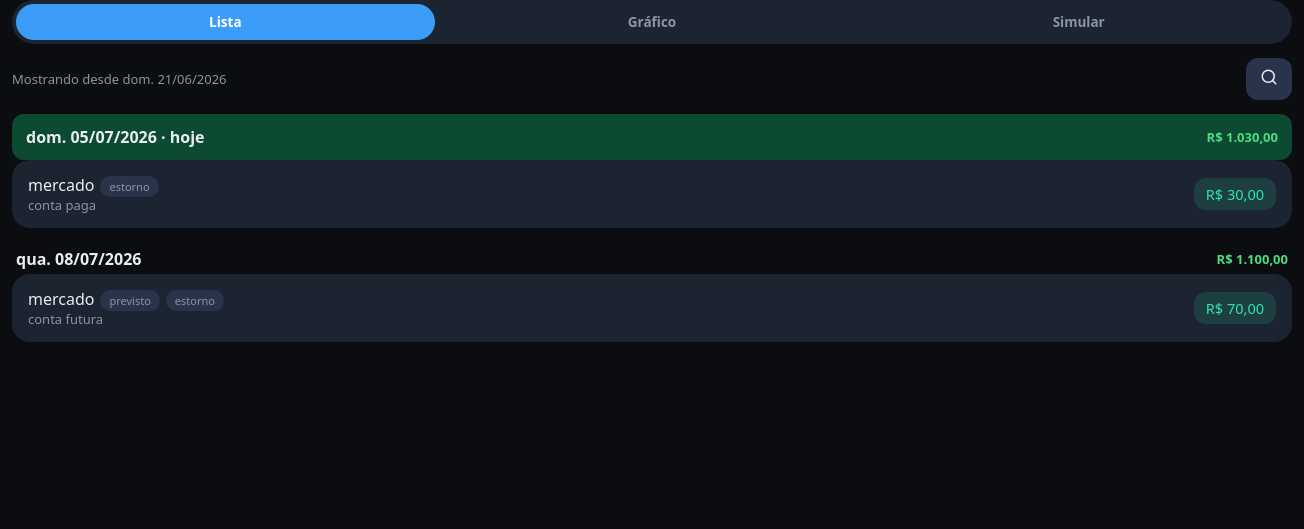
Test case: busca pelo selo "previsto" acha o lançamento previsto, e o +30 dias some enquanto se busca
This screenshot has width=1304, height=529.
Click the button named "Buscar e filtrar" at (1269, 79), box [1246,58,1292,100]
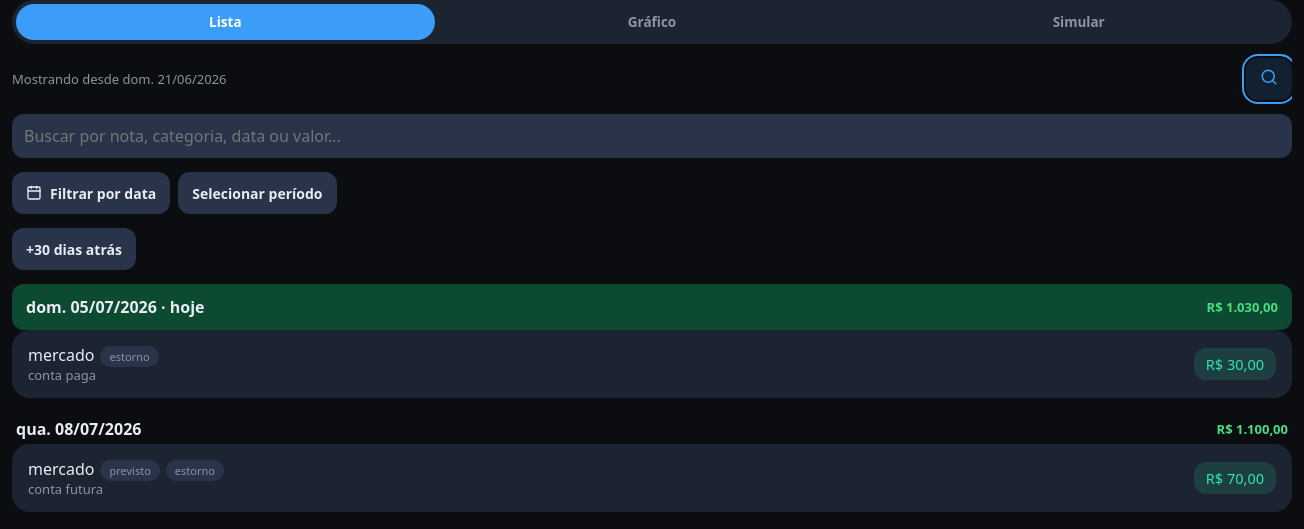
Result: the button "+30 dias atrás" is shown at [12,228,136,270]
Type "previsto" into the search field with placeholder "Buscar por nota, categoria, data ou valor..." at (652, 136), box [12,114,1292,158]
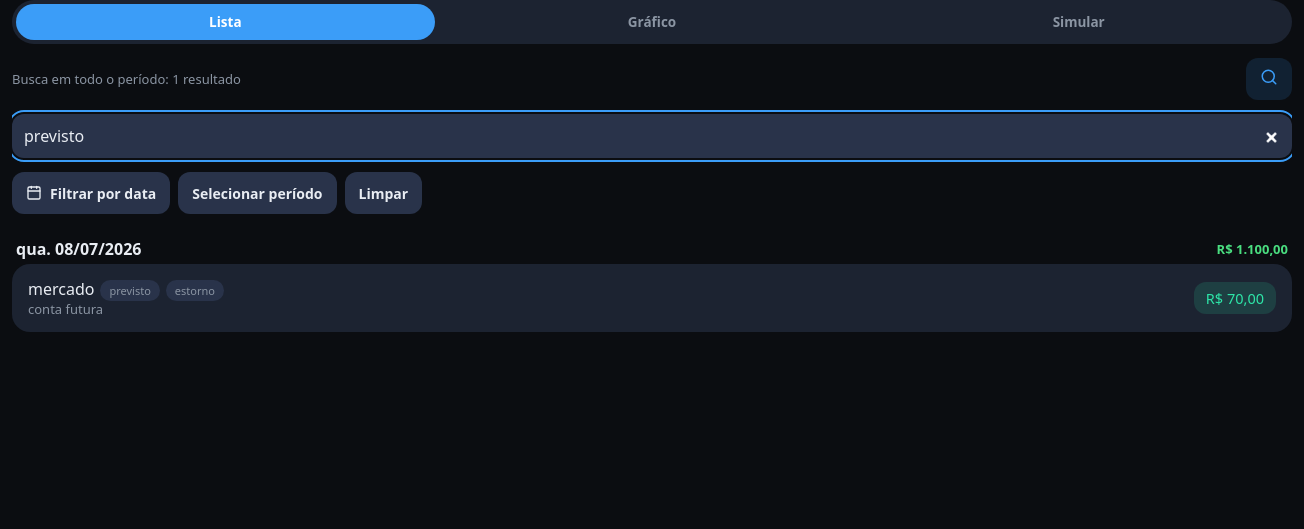
Expected: the text "conta futura" is shown, [28,300,103,318]
Result: the button "conta paga" is gone
Result: the button "+30 dias atrás" is gone
